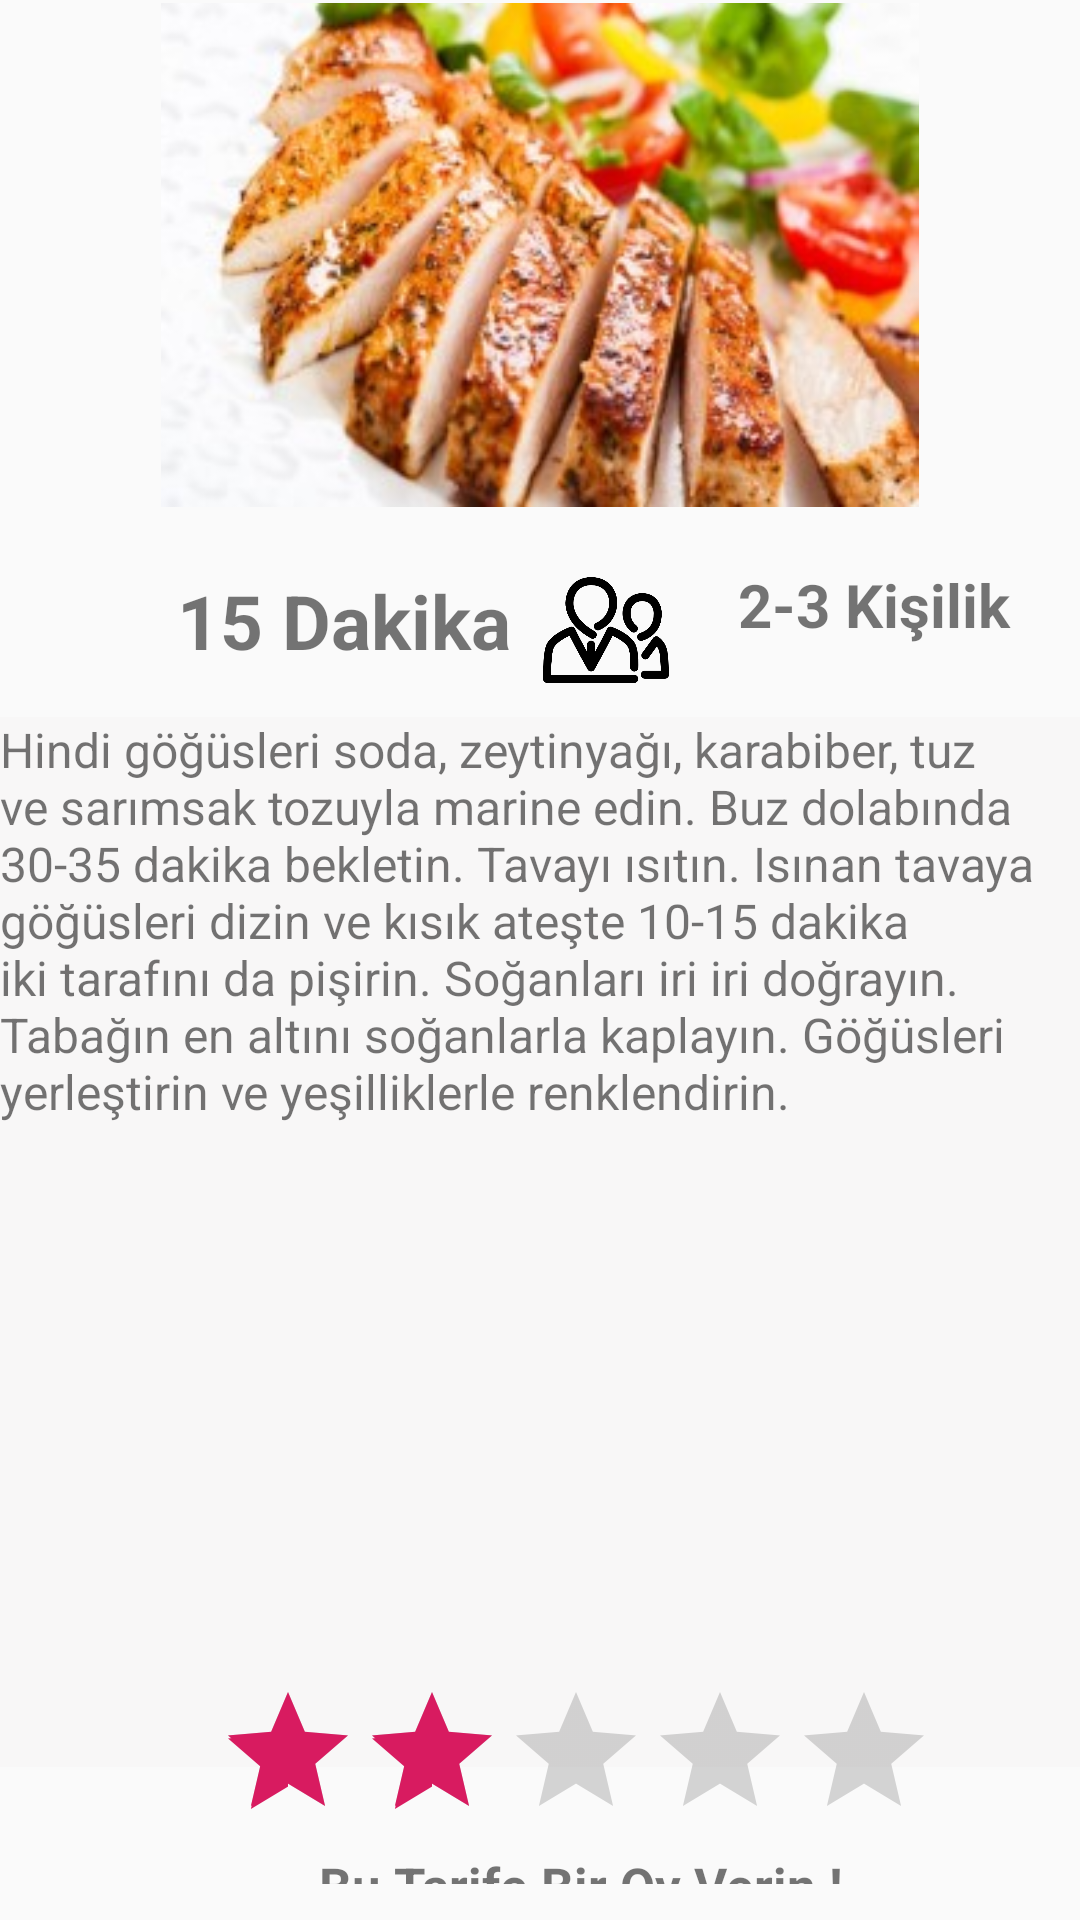

Where icons sit on this 1080x1920 app screen, as bbox=(x1, y1, x2, y2):
personicon: bbox=(543, 577, 669, 683)
